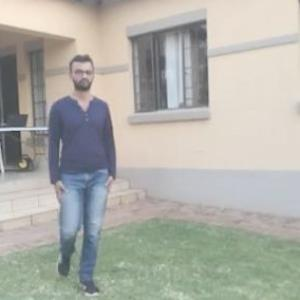follow: (50, 63, 117, 272)
